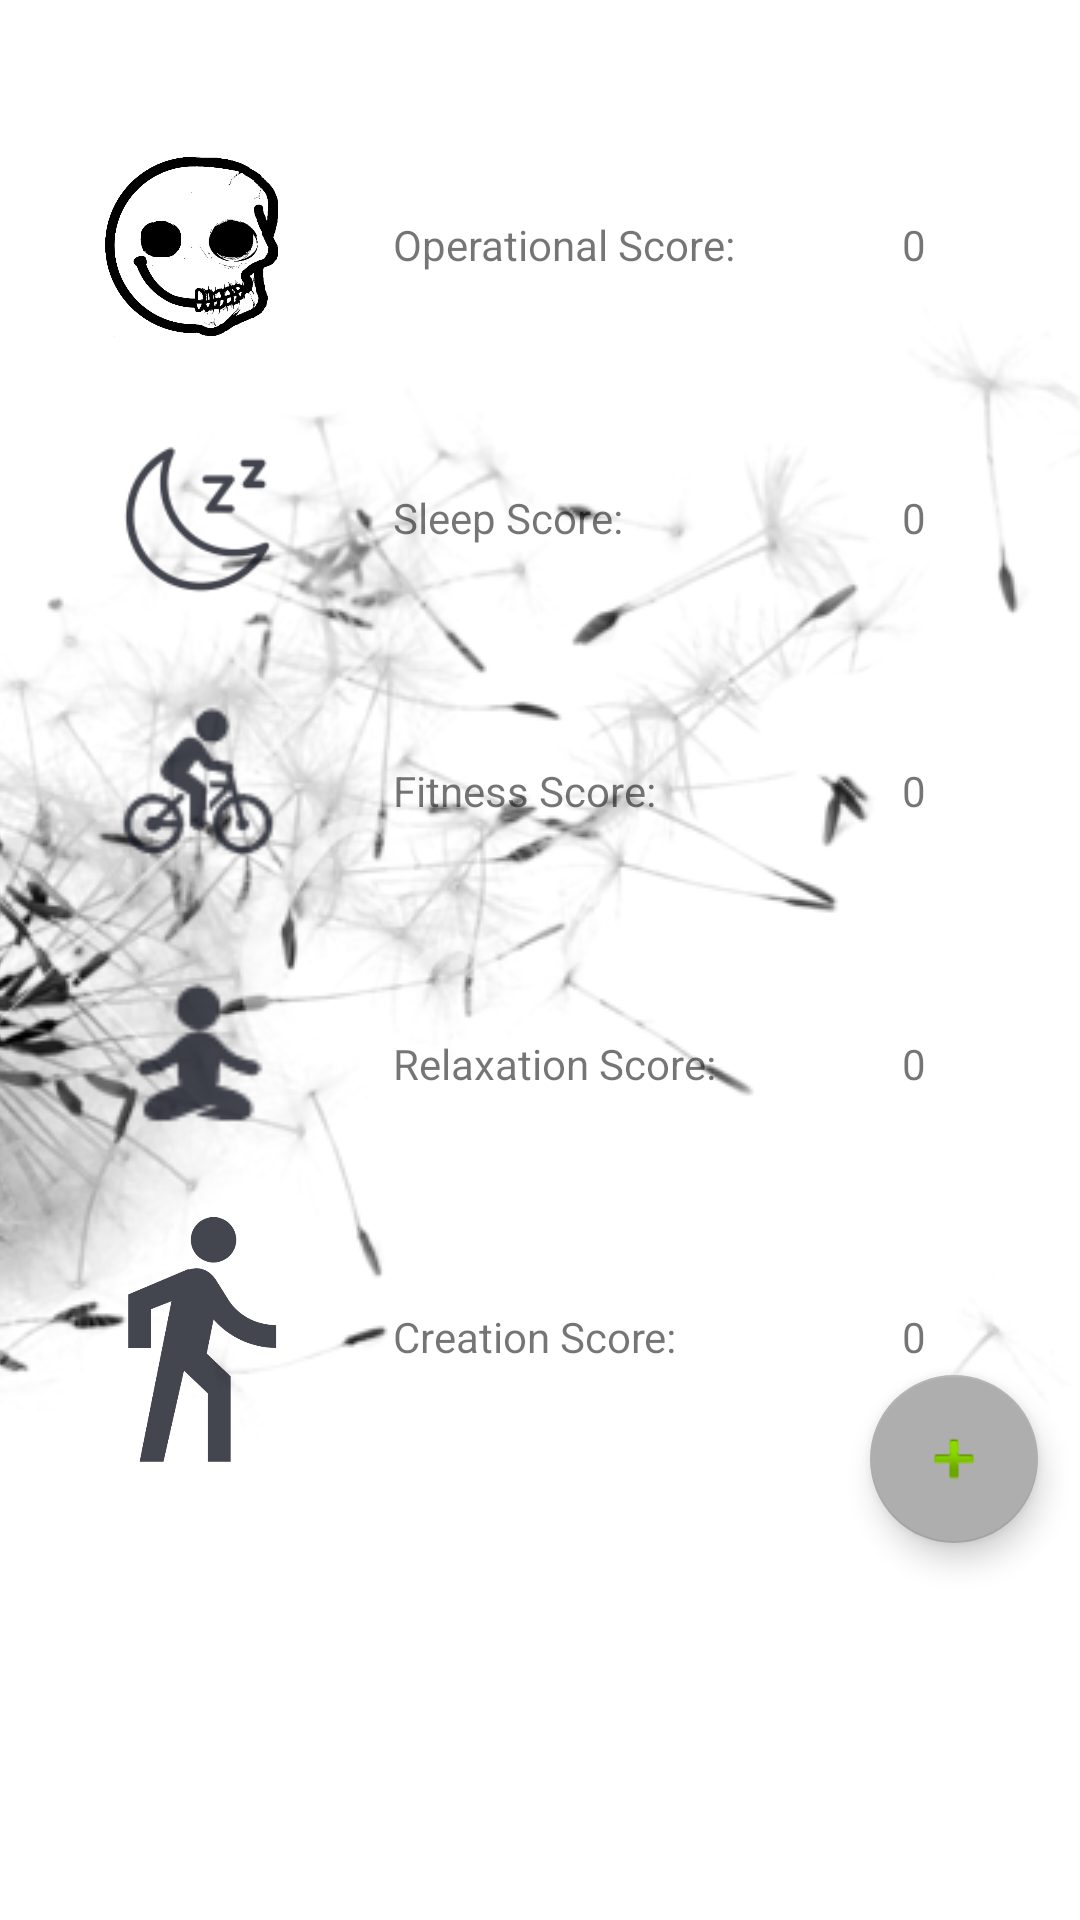

Screen size 1080px x 1920px. Icon name, then its center in pixels as point (x, y):
add: point (954, 1459)
body: point (196, 790)
mind: point (197, 1063)
